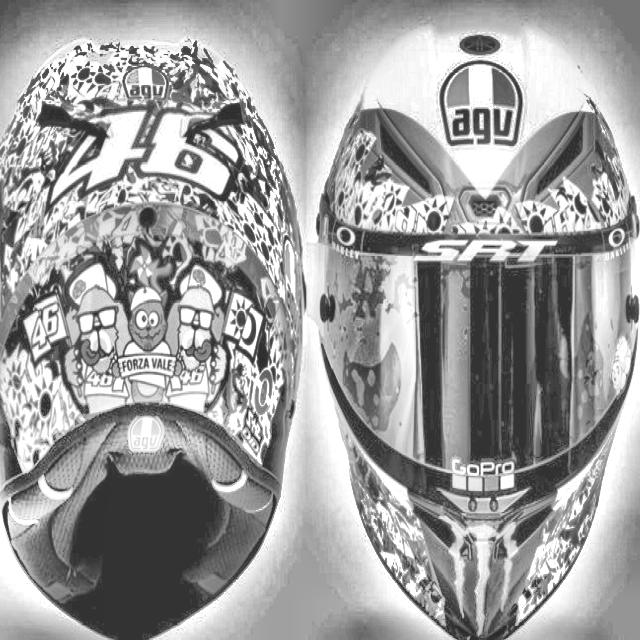Helmet: (317, 11, 640, 640), (0, 31, 308, 639)
